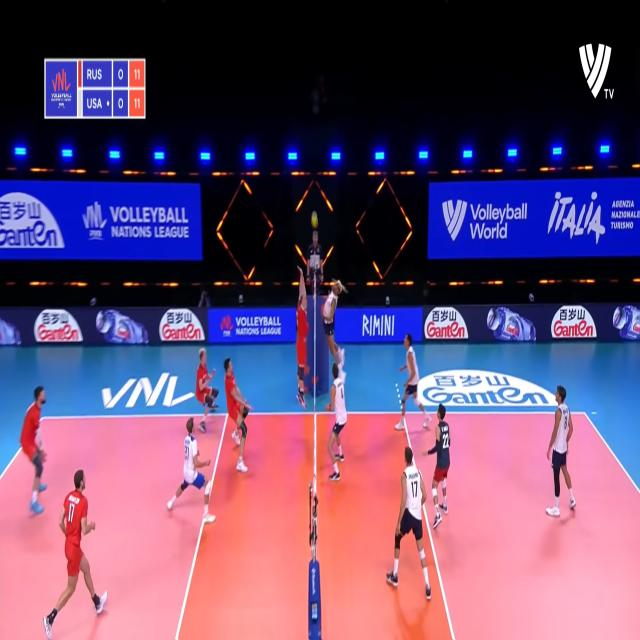player: (42, 470, 108, 635), (387, 445, 430, 596), (167, 418, 215, 530), (18, 386, 56, 517), (546, 381, 579, 519), (219, 356, 254, 472), (322, 359, 350, 481), (398, 334, 430, 436), (428, 405, 449, 527), (196, 346, 220, 433), (297, 256, 310, 408), (322, 276, 342, 360)
